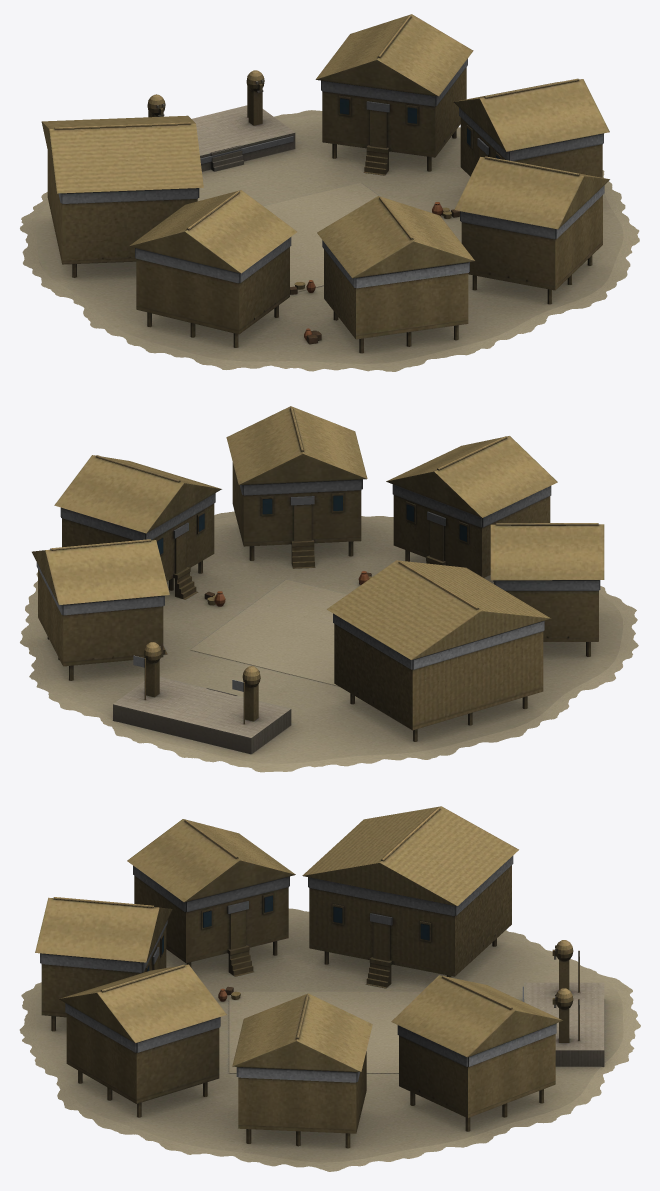
Rendered from bronze-town-small-a-pacific.glb.
3 views of the same model, one above another, from view 1: azimuth 30°, elevation 25°; view 2: azimuth 150°, elevation 25°; view 3: azimuth 270°, elevation 25° (orthographic).
Parts seen in each view (by area): view 1: LOD0; view 2: LOD0; view 3: LOD0.
Part boxes in pixels (x1=…): LOD0: x1=20, y1=14, x2=639, y2=371; LOD0: x1=20, y1=406, x2=638, y2=772; LOD0: x1=19, y1=806, x2=640, y2=1171.
Size of what is drawn, in the model's own units: 3.99 by 0.867 by 3.95.
3 materials, 3 textured.
